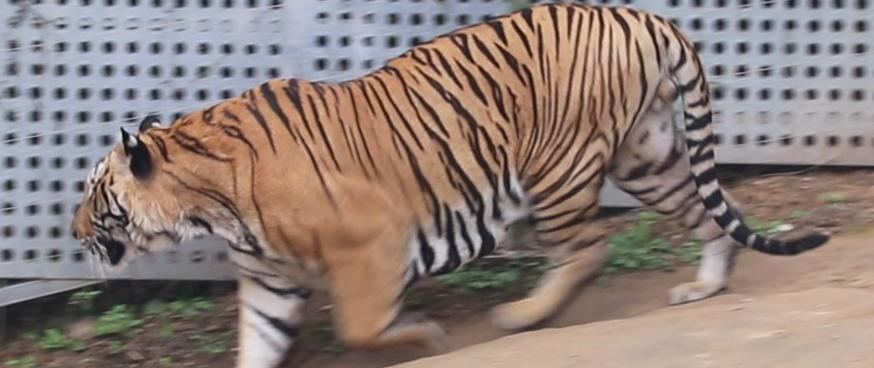tiger: (74, 3, 824, 367)
